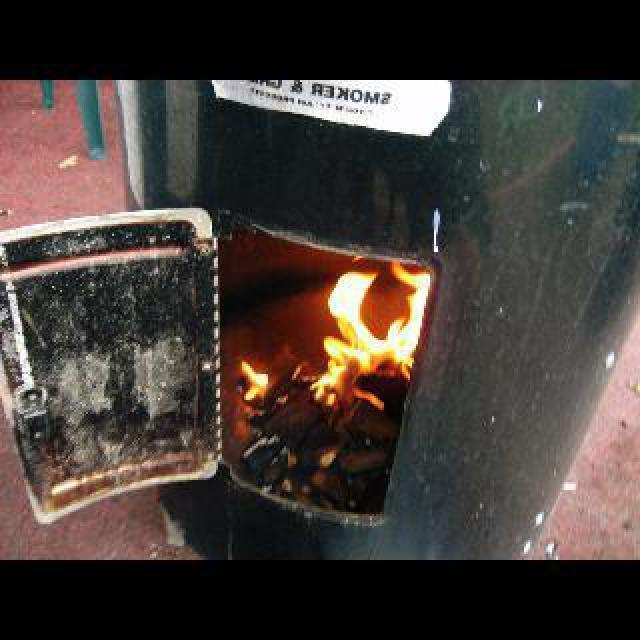Fire: (236, 248, 432, 414)
